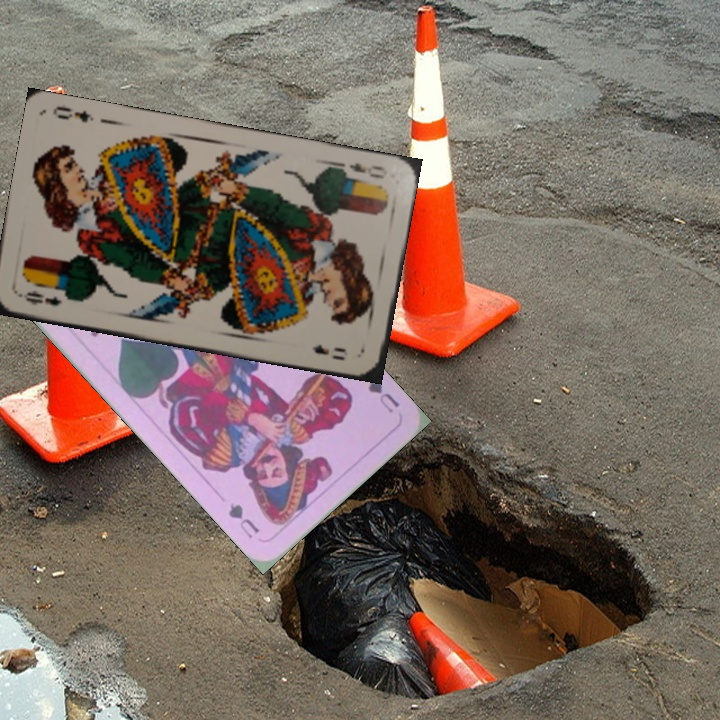EO: (334, 158, 390, 184), (15, 285, 64, 309)
GU: (364, 373, 402, 416)
